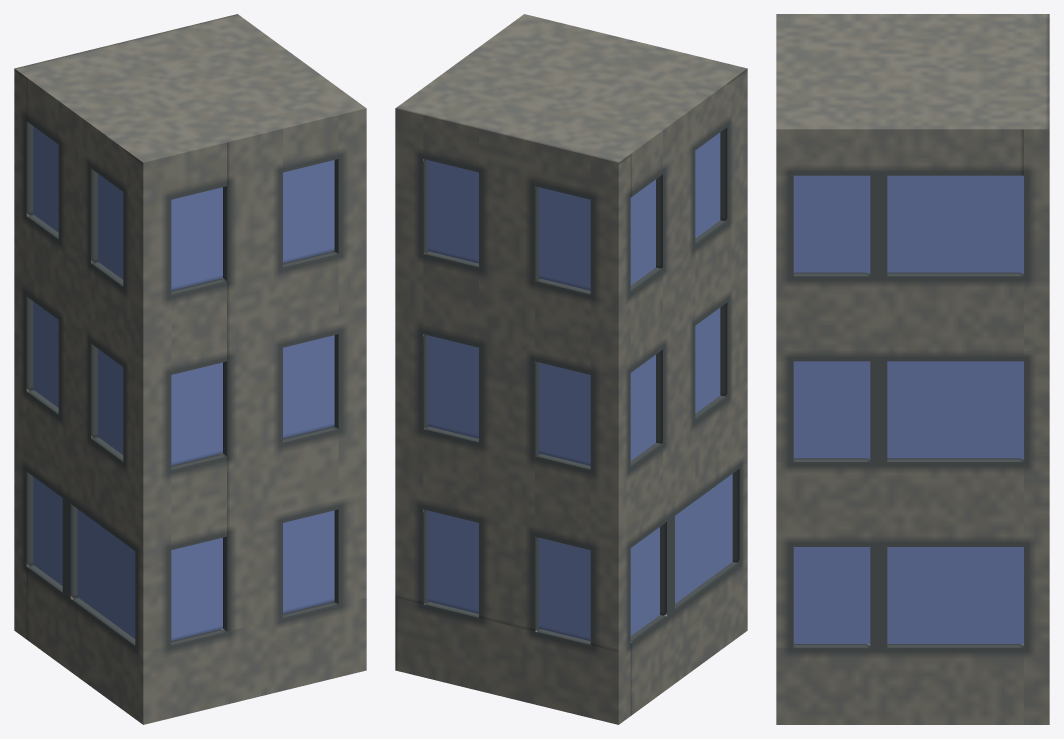
The picture shows the model from 3 angles, left to right: view 1: azimuth 30°, elevation 25°; view 2: azimuth 150°, elevation 25°; view 3: azimuth 270°, elevation 25°; orthographic projection. The views are drawn at different scales.
Parts seen in each view (by area): view 1: Content; view 2: Content; view 3: Content.
Part boxes in pixels (bbox=[...]): Content: bbox=[14, 14, 366, 724]; Content: bbox=[395, 14, 747, 724]; Content: bbox=[776, 14, 1049, 724].
Bounding box in the file's own units: 32 × 77 × 32.
1 material, 1 textured.
